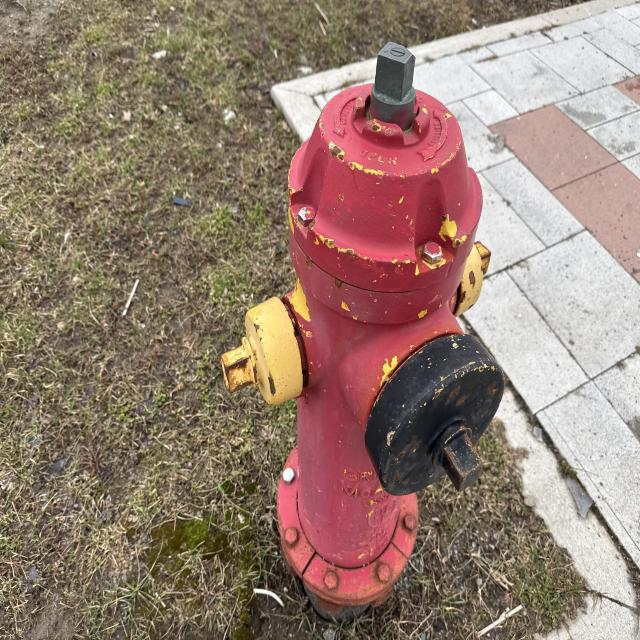Fire hydrant: (217, 40, 506, 620)
